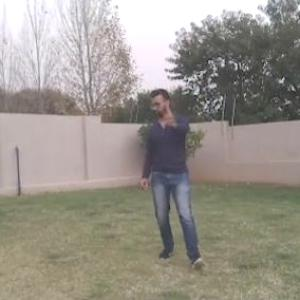takeoff-hand: (160, 108, 182, 136)
